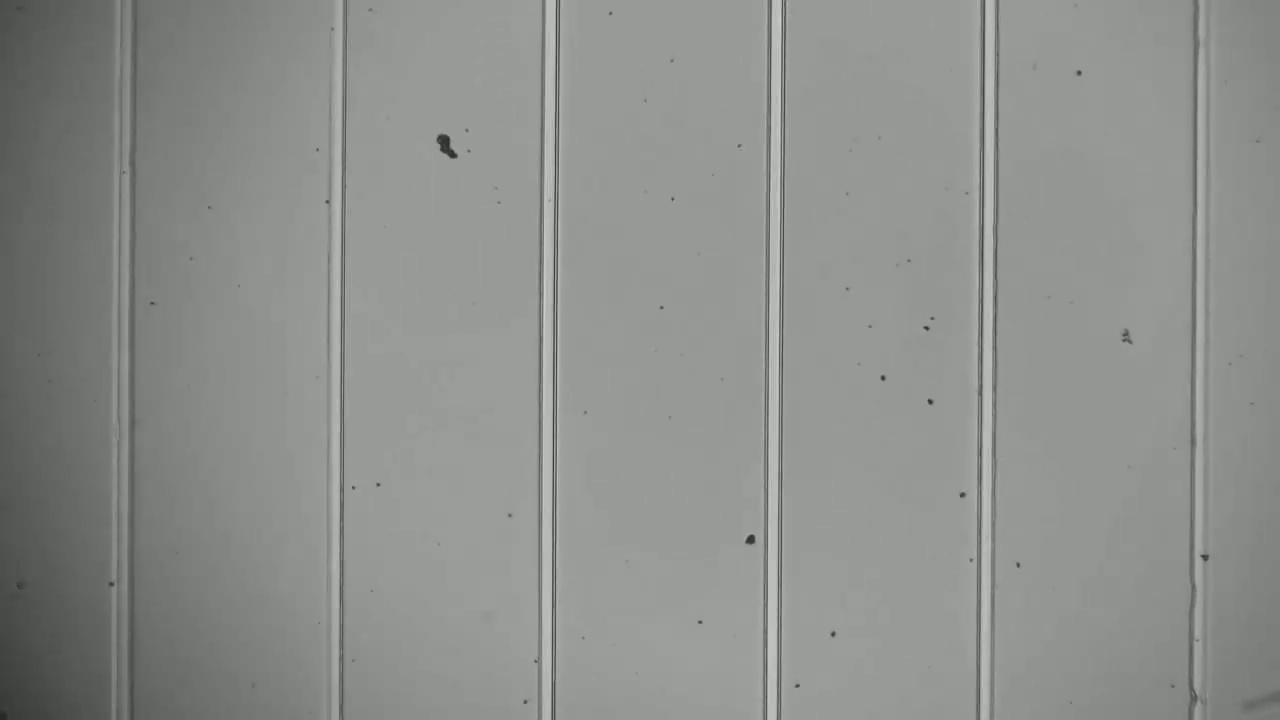edge_bite: (1182, 677, 1214, 712)
